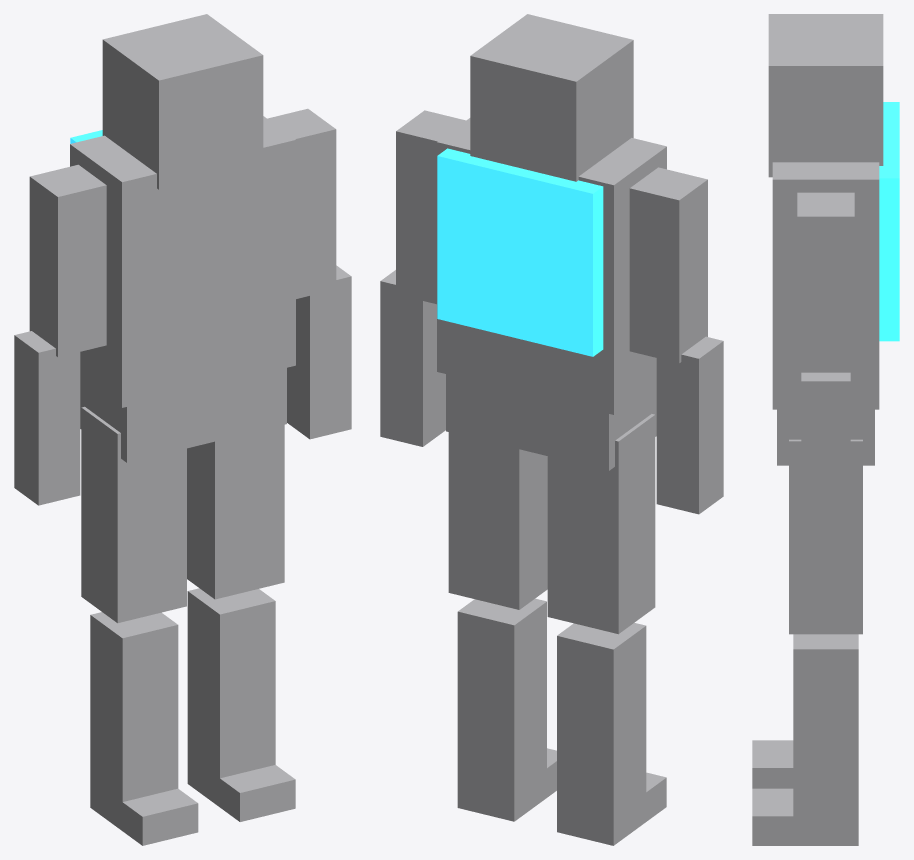
Rendered from back.glb.
3 renders of one model, left to right at view 1: azimuth 30°, elevation 25°; view 2: azimuth 150°, elevation 25°; view 3: azimuth 270°, elevation 25°, orthographic.
Parts seen in each view (by area): view 1: Mannequin; view 2: Mannequin; view 3: Mannequin.
Boxes of the visible parts, x1,y1,x2,y2 form: Mannequin: (14,14,351,845); Mannequin: (380,14,723,845); Mannequin: (752,14,899,845).
Size of the model in its own units: 0.9 by 2.07 by 0.36.
